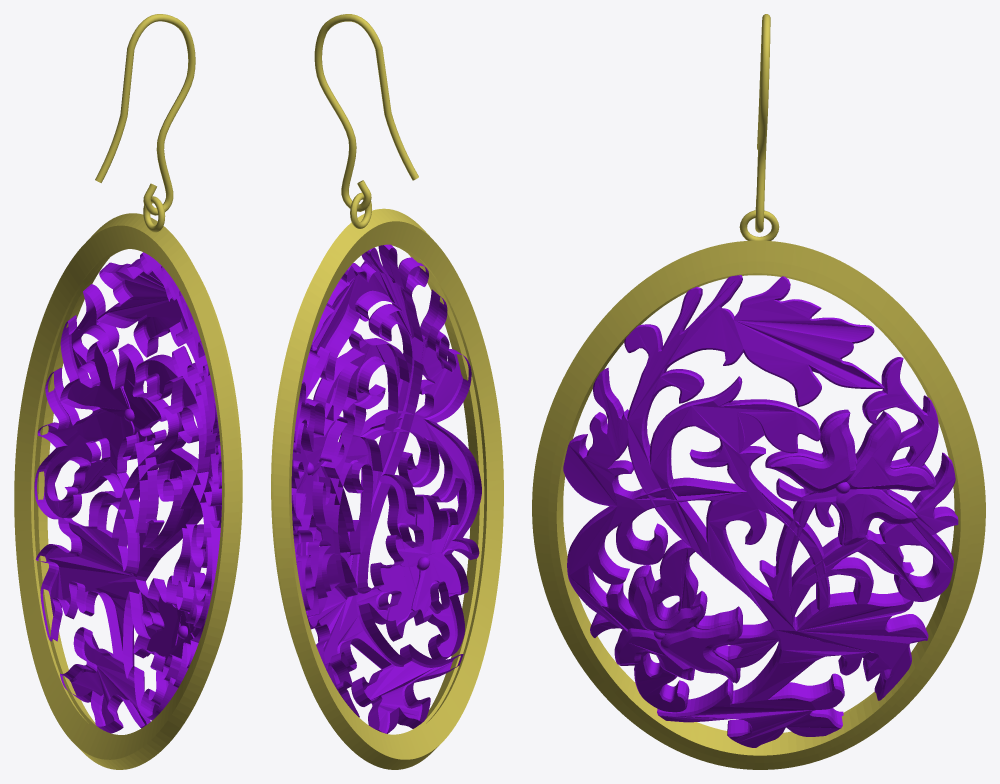
Rendered from necklace.fbx.
3 views of the same model, side by side, from view 1: azimuth 30°, elevation 25°; view 2: azimuth 150°, elevation 25°; view 3: azimuth 270°, elevation 25° (orthographic). The views are drawn at different scales.
Visible parts, largest first — view 1: Tube02.002, Line09.001; view 2: Tube02.002, Line09.001; view 3: Tube02.002, Line09.001.
Boxes of the visible parts, x1,y1,x2,y2 form: Tube02.002: [14, 196, 242, 769]; Line09.001: [95, 14, 195, 215]; Tube02.002: [271, 192, 503, 769]; Line09.001: [314, 14, 418, 211]; Tube02.002: [532, 210, 985, 769]; Line09.001: [755, 14, 770, 232].
Size of the model in its own units: 30.93 by 186 by 96.93.
